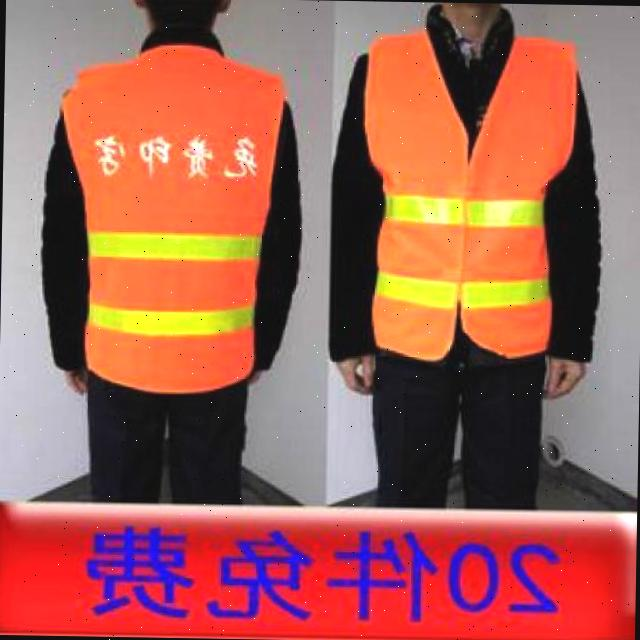vest: (70, 59, 272, 394), (365, 43, 563, 363)
